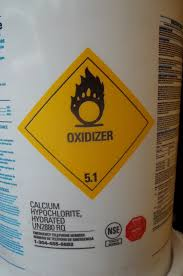Oxidizer: (18, 49, 155, 199)
